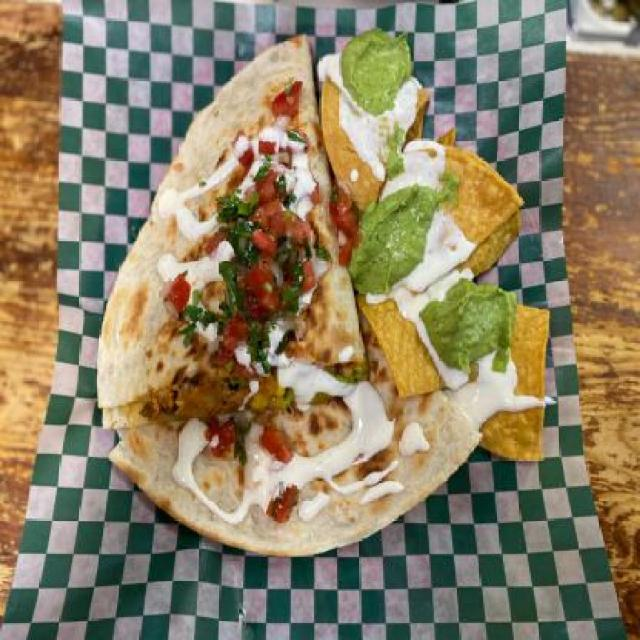chicken quesadilla: (93, 24, 324, 584), (102, 385, 484, 560)
guacamole: (348, 175, 458, 298), (418, 278, 520, 380), (338, 25, 416, 118)
nachos: (437, 121, 526, 282), (472, 302, 553, 478), (321, 80, 430, 205), (353, 287, 441, 398)
